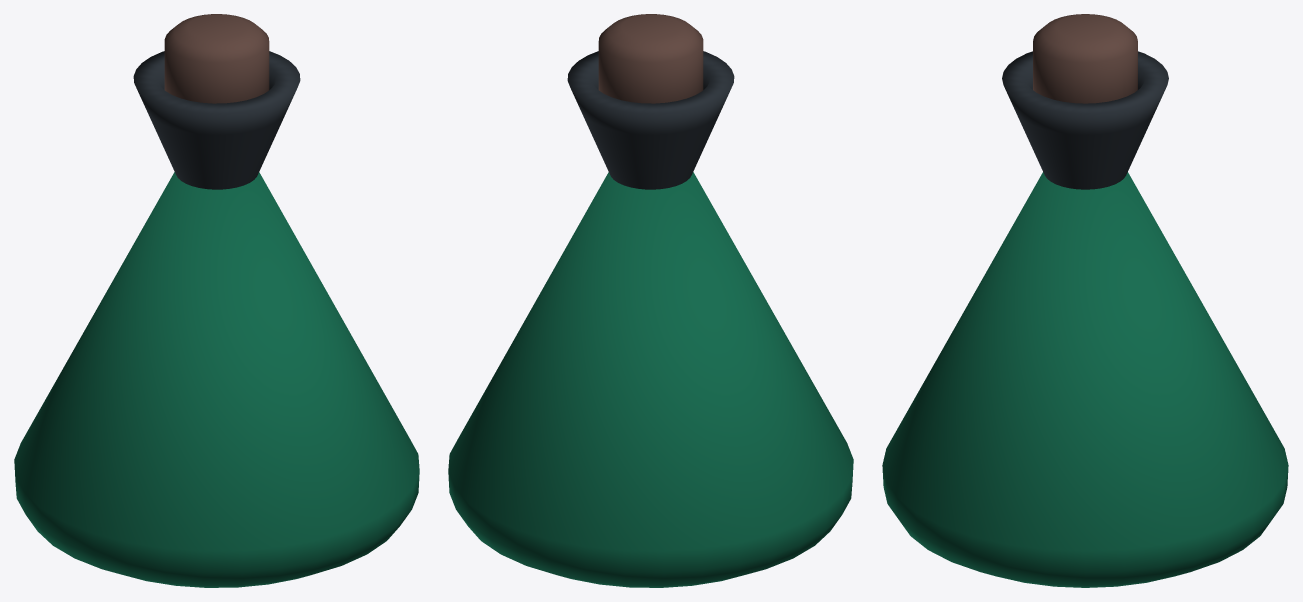
Rendered from Potion.fbx.
3 views of the same model, side by side, from view 1: azimuth 30°, elevation 25°; view 2: azimuth 150°, elevation 25°; view 3: azimuth 270°, elevation 25° (orthographic).
Visible parts, largest first — view 1: Potion; view 2: Potion; view 3: Potion.
Part boxes in pixels (x1=…): Potion: x1=14, y1=14, x2=419, y2=587; Potion: x1=448, y1=14, x2=853, y2=587; Potion: x1=882, y1=14, x2=1288, y2=587.
Size of the model in its own units: 158 by 218 by 158.
